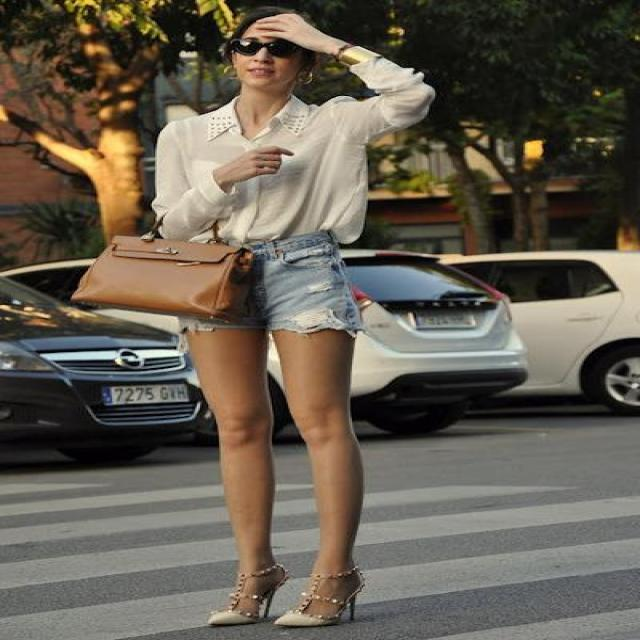bag: (58, 147, 304, 335)
shirt: (148, 46, 434, 242)
shorts: (253, 218, 371, 332)
sunglass: (230, 19, 317, 73)
